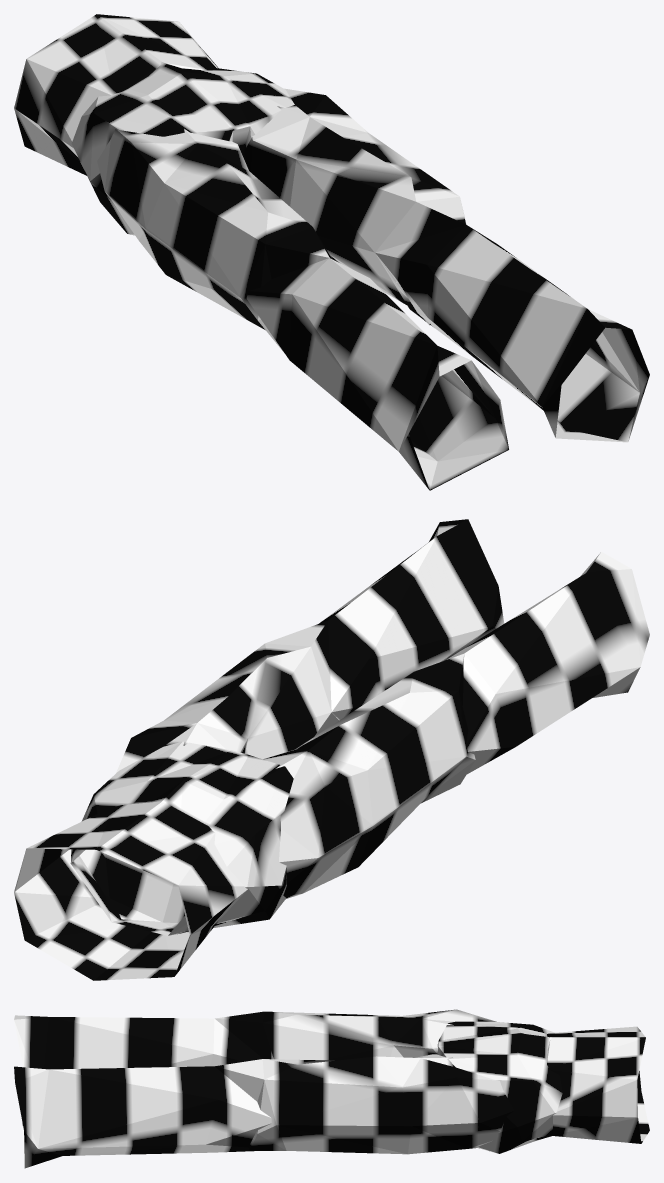
File: initarpt2.dae
The picture shows the model from 3 angles, top to bottom: view 1: azimuth 30°, elevation 25°; view 2: azimuth 150°, elevation 25°; view 3: azimuth 270°, elevation 25°; orthographic projection. The views are drawn at different scales.
Parts seen in each view (by area): view 1: armor; view 2: armor; view 3: armor.
Part boxes in pixels (bbox=[...]): armor: bbox=[14, 14, 649, 490]; armor: bbox=[14, 519, 649, 980]; armor: bbox=[14, 1009, 649, 1168].
Size of the model in its own units: 0.6143 by 1.96 by 0.3584.
1 material, 1 textured.
